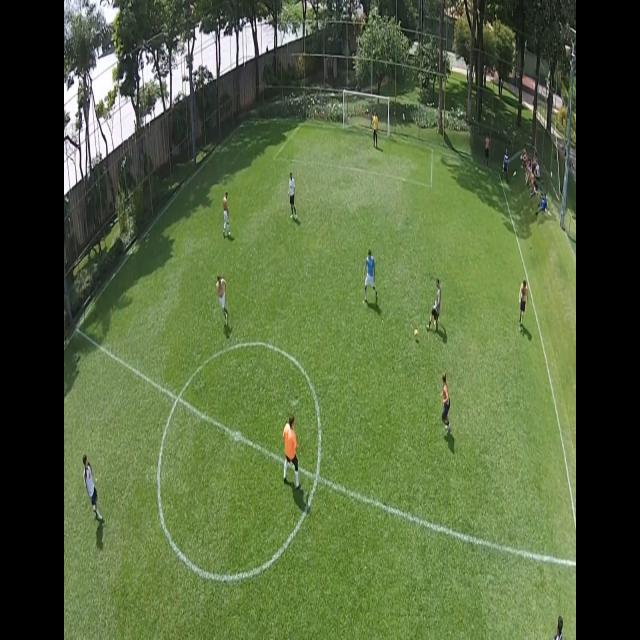humans: (278, 405, 303, 497), (81, 449, 105, 530), (359, 238, 379, 316), (439, 365, 454, 440), (214, 268, 230, 334), (428, 273, 443, 341), (286, 164, 300, 227), (219, 184, 234, 240), (518, 277, 532, 337), (369, 106, 379, 156), (553, 612, 569, 640), (502, 142, 512, 182), (484, 132, 492, 167)
